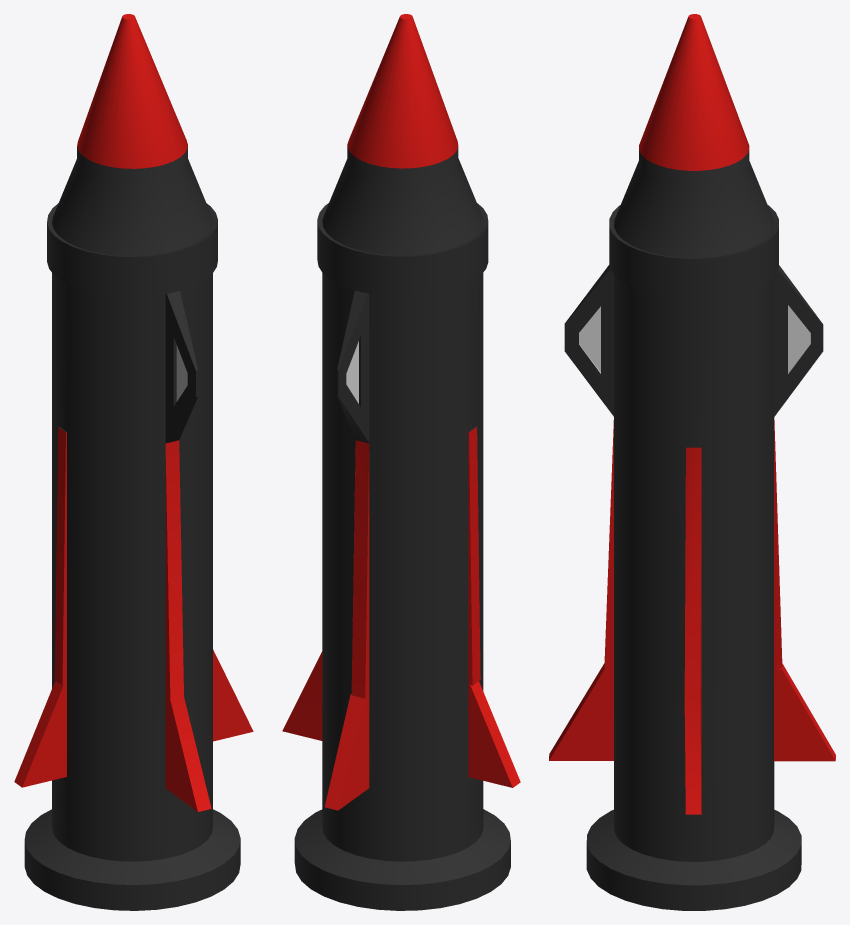
The model's file is rocket.fbx.
3 views of the same model, side by side, from view 1: azimuth 30°, elevation 25°; view 2: azimuth 150°, elevation 25°; view 3: azimuth 270°, elevation 25° (orthographic).
Visible parts, largest first — view 1: Cylinder; view 2: Cylinder; view 3: Cylinder.
Boxes of the visible parts, <box> form: Cylinder: <box>14,14,253,910</box>; Cylinder: <box>282,14,520,910</box>; Cylinder: <box>549,14,835,910</box>.
Bounding box in the file's own units: 35.26 × 124 × 37.98.
